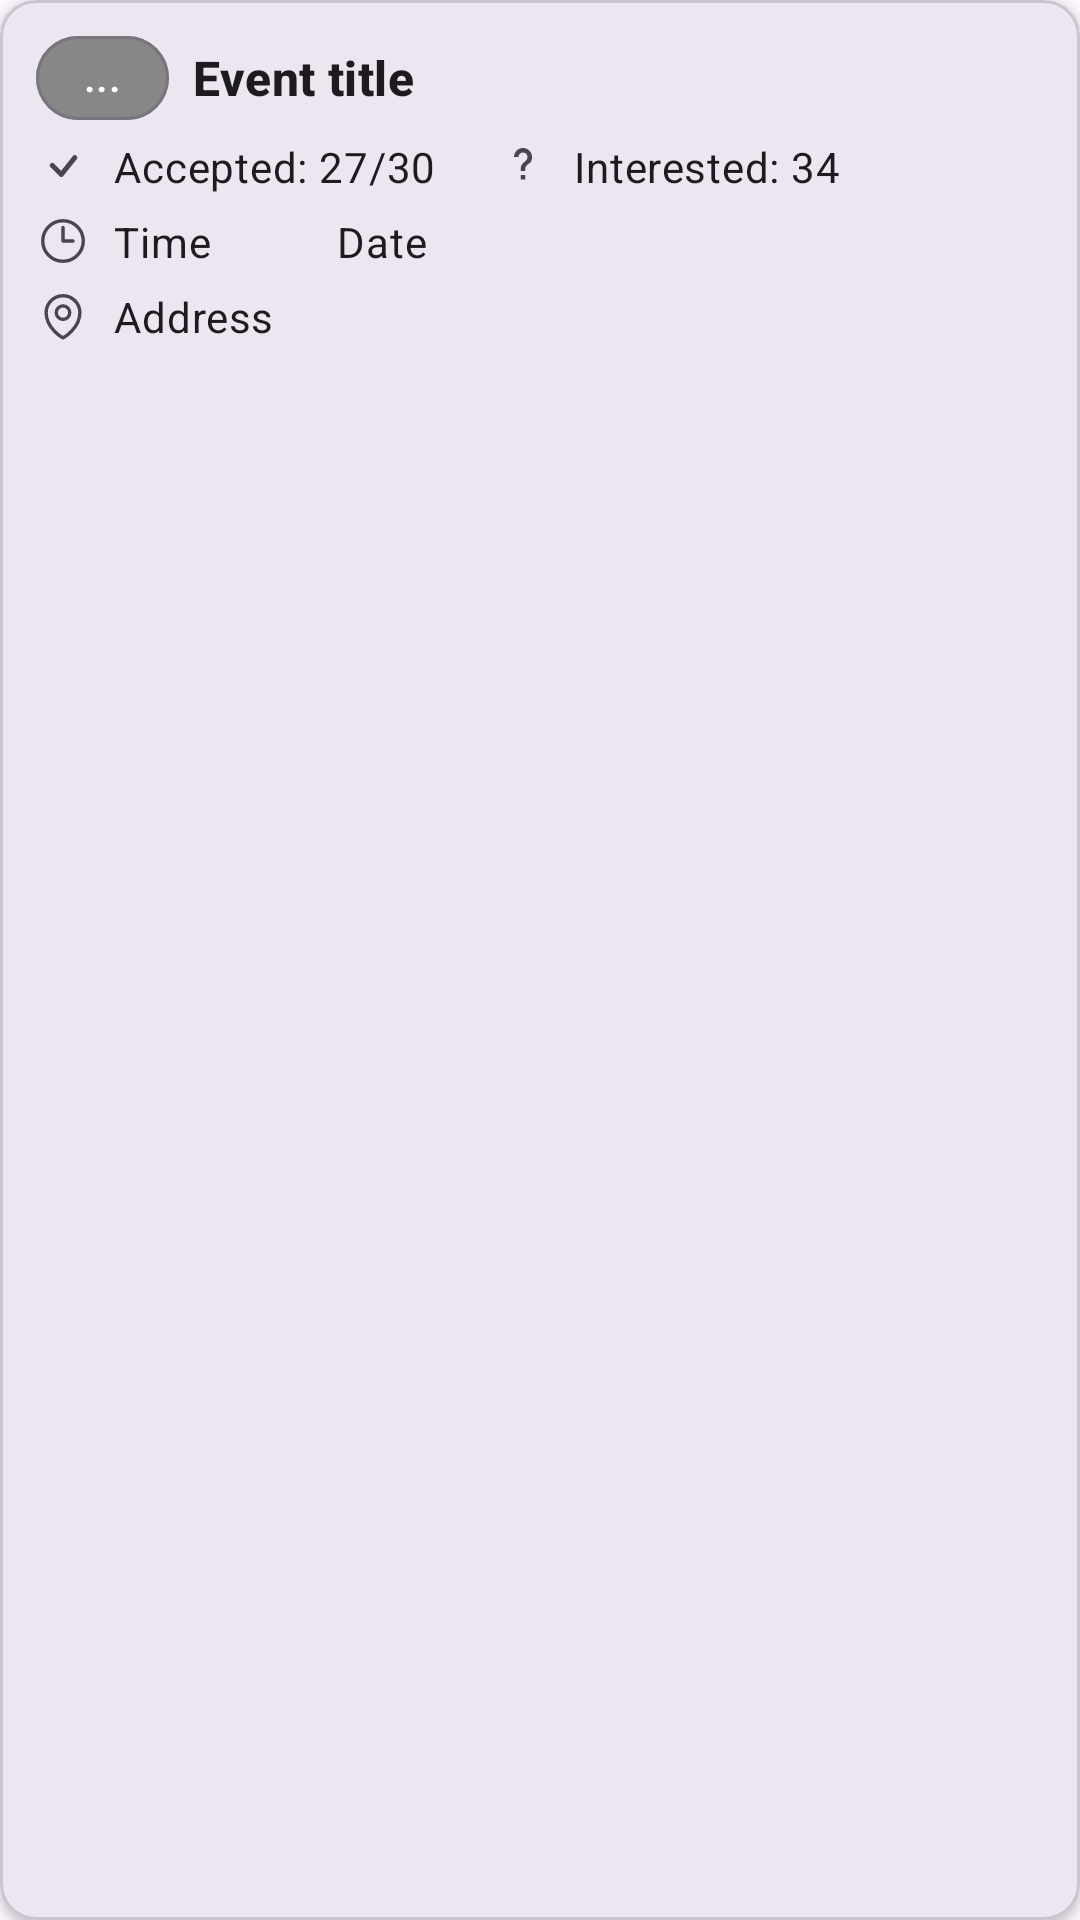

Icons on this 1080 × 1920 Android screen, each with its box as box(x1, y1, x2, y2):
check: box(49, 155, 78, 177)
clock: box(41, 219, 85, 263)
location: box(44, 294, 82, 340)
question mark: box(514, 148, 532, 180)
